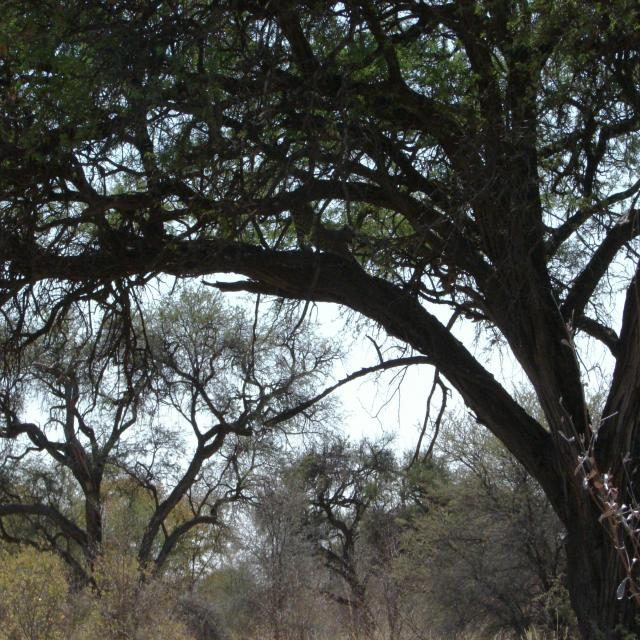Leopard: (287, 202, 360, 273)
